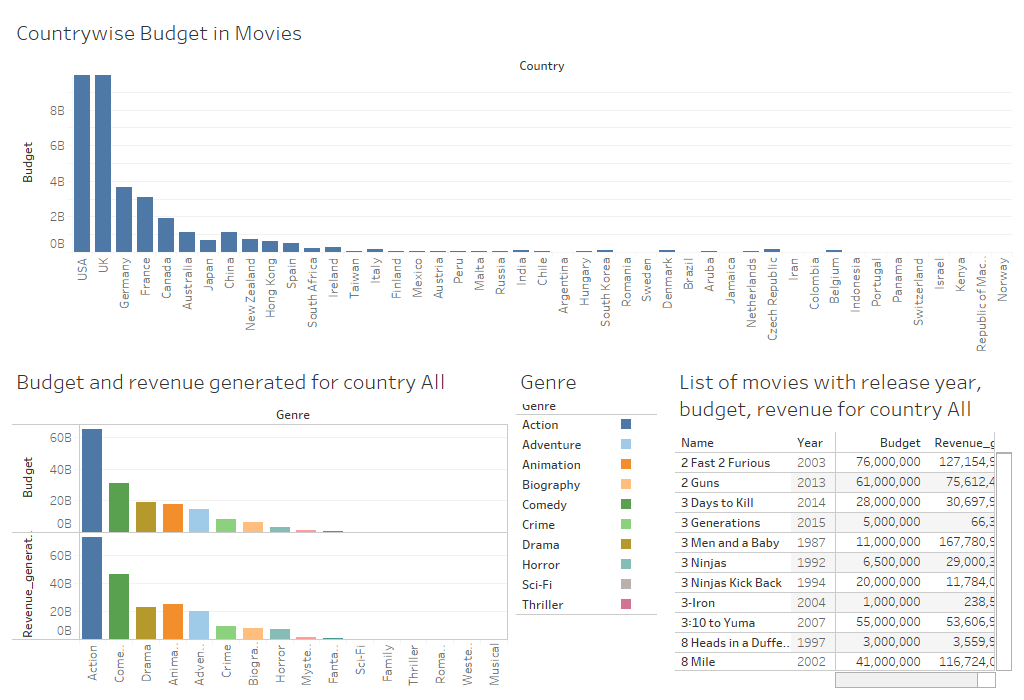

Layout of this report page (visuals, bound fields, positions):
{"tool":"tableau","page":{"name":"Dashboard 2","canvas":[1024,700],"ordinal":1},"visuals":[{"type":"worksheet","title":"Budget","mark":"Automatic","rows":["gross","budget"],"cols":["country"],"box":[8,8,1008,349]},{"type":"legend","title":"Budget","param":"[federated.17efyw80rm8n911ffvgez0q2bcdu].[:Measure Names]","box":[866,11,141,58]},{"type":"worksheet","title":"budget_genre","mark":"Automatic","rows":["budget","gross"],"cols":["genre"],"box":[8,357,504,335]},{"type":"worksheet","title":"Genre","mark":"Square","rows":["genre"],"box":[512,357,159,335]},{"type":"worksheet","title":"list2","mark":"Automatic","rows":["name","year"],"box":[671,357,345,335]}]}

Visuals, with their boxes in screenshot pixels (x1, y1, x2, y2), scaled from the page's 1024x700 canvas onto the 1024x700 screenshot:
"Budget" worksheet: detection(8, 8, 1016, 357)
"Budget" legend: detection(866, 11, 1007, 69)
"budget_genre" worksheet: detection(8, 357, 512, 692)
"Genre" worksheet (Square marks): detection(512, 357, 671, 692)
"list2" worksheet: detection(671, 357, 1016, 692)
